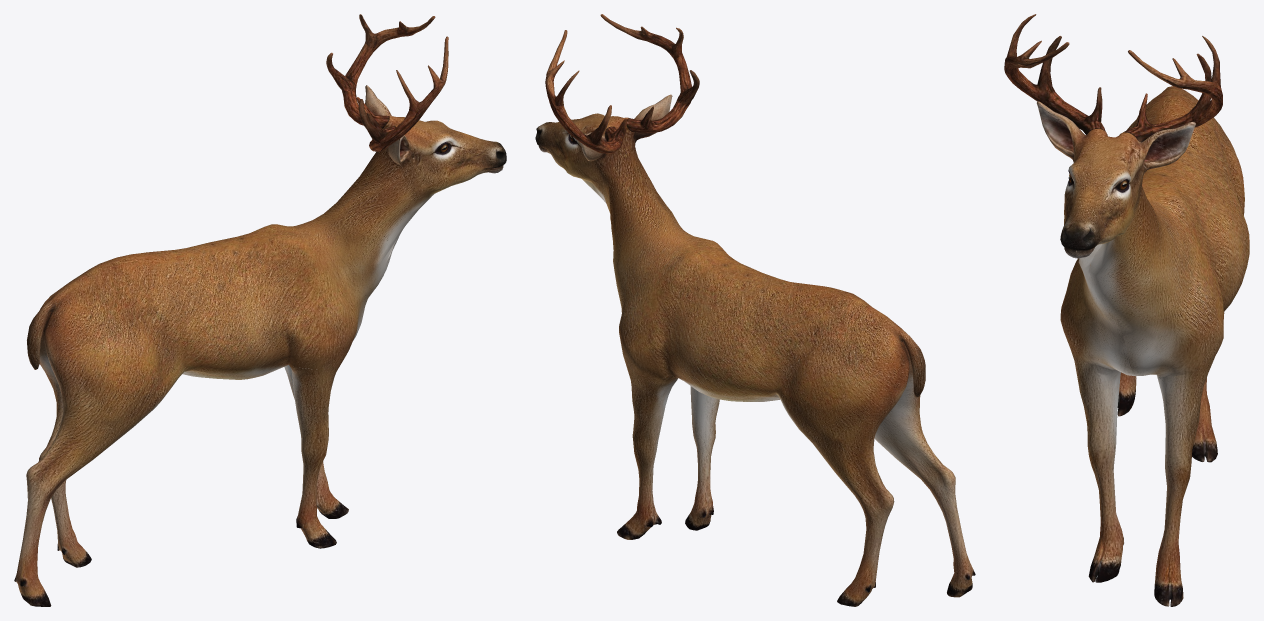
The model's file is venadoColaB.fbx.
The picture shows the model from 3 angles, left to right: view 1: azimuth 30°, elevation 25°; view 2: azimuth 150°, elevation 25°; view 3: azimuth 270°, elevation 25°; orthographic projection. The views are drawn at different scales.
Parts seen in each view (by area): view 1: deer.002; view 2: deer.002; view 3: deer.002.
Boxes of the visible parts, x1,y1,x2,y2 form: deer.002: [14, 14, 506, 606]; deer.002: [535, 14, 975, 606]; deer.002: [1004, 14, 1249, 606].
Size of the model in its own units: 462 by 463 by 171.
1 material, 1 textured.
